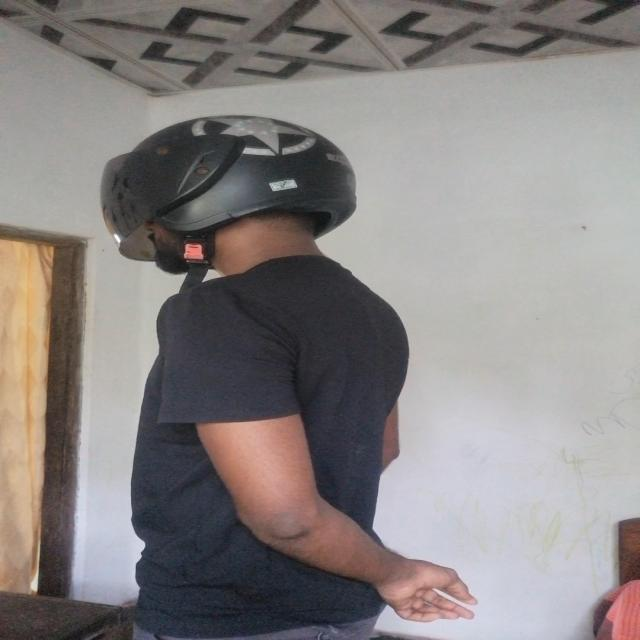Helmet_Wearer: (101, 117, 387, 302)
Person: (108, 112, 493, 640)
